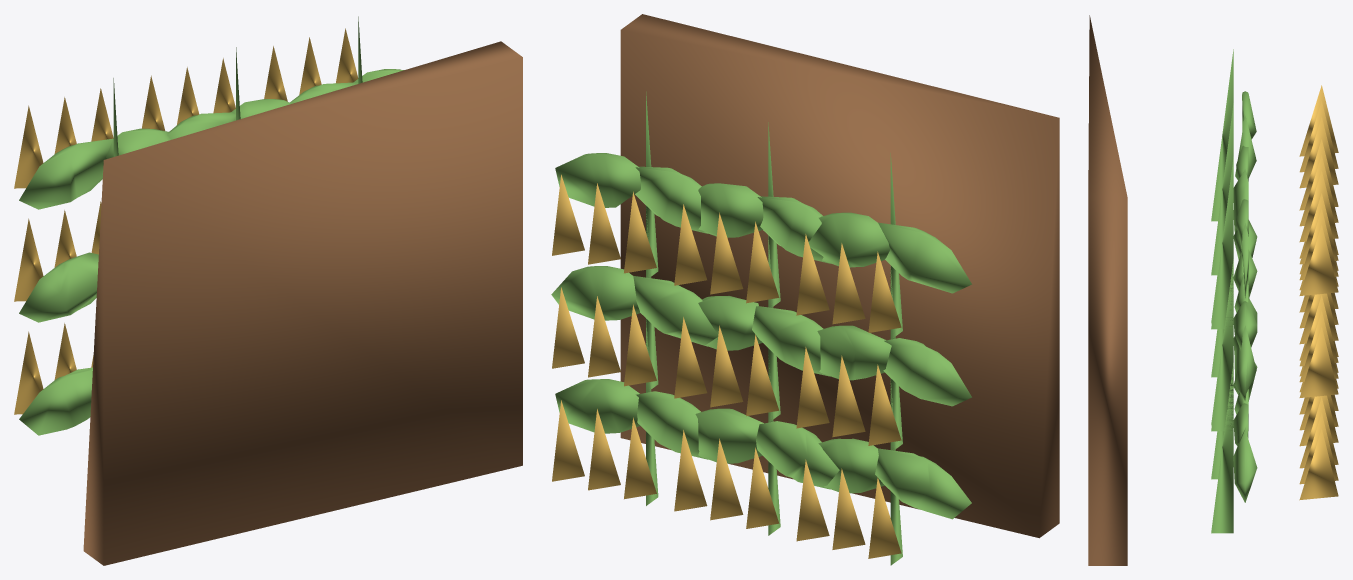
Rendered from wheat_growing.glb.
The picture shows the model from 3 angles, left to right: view 1: azimuth 30°, elevation 25°; view 2: azimuth 150°, elevation 25°; view 3: azimuth 270°, elevation 25°; orthographic projection. The views are drawn at different scales.
Visible parts, largest first — view 1: Soil, Leaf.004, Leaf.002, Leaf, Grain.003, Grain.006, Grain, Leaf.005, Leaf.010, Grain.017, Grain.026, Grain.015 (+6 smaller); view 2: Soil, Leaf, Leaf.004, Leaf.002, Leaf.013, Leaf.017, Leaf.015, Leaf.014, Leaf.006, Leaf.005, Leaf.008, Leaf.003 (+40 smaller); view 3: Soil, Stem.006, Stem.007, Stem.008, Grain.020, Grain.026, Grain.023, Stem.005, Stem.002, Leaf.013, Leaf.015, Grain.008 (+26 smaller).
Part boxes in pixels (x1,y1,x2,y2): Soil: [83, 41, 522, 565]; Leaf.004: [19, 138, 112, 209]; Leaf.002: [19, 252, 98, 322]; Leaf: [19, 367, 92, 435]; Grain.003: [14, 218, 43, 301]; Grain.006: [14, 105, 43, 188]; Grain: [14, 331, 43, 414]; Leaf.005: [102, 128, 170, 174]; Leaf.010: [167, 112, 235, 139]; Grain.017: [213, 58, 235, 113]; Grain.026: [336, 28, 358, 83]; Grain.015: [142, 75, 165, 130]; Soil: [620, 14, 1059, 538]; Leaf: [875, 448, 971, 519]; Leaf.004: [878, 222, 971, 293]; Leaf.002: [883, 338, 971, 406]; Leaf.013: [555, 379, 640, 433]; Leaf.017: [555, 153, 640, 207]; Leaf.015: [551, 266, 639, 320]; Leaf.014: [633, 276, 718, 346]; Leaf.006: [756, 421, 839, 489]; Leaf.005: [808, 212, 889, 267]; Leaf.008: [752, 306, 830, 376]; Leaf.003: [817, 325, 891, 380]; Soil: [1088, 15, 1127, 565]; Stem.006: [1211, 363, 1233, 533]; Stem.007: [1211, 259, 1233, 431]; Stem.008: [1211, 157, 1233, 329]; Grain.020: [1299, 429, 1338, 500]; Grain.026: [1299, 225, 1338, 295]; Grain.023: [1299, 327, 1338, 397]; Stem.005: [1211, 103, 1233, 275]; Stem.002: [1211, 49, 1233, 221]; Leaf.013: [1233, 427, 1257, 502]; Leaf.015: [1235, 325, 1256, 400]; Grain.008: [1299, 117, 1338, 188].
Bounding box in the file's own units: 1.17 × 1.11 × 0.6673.
